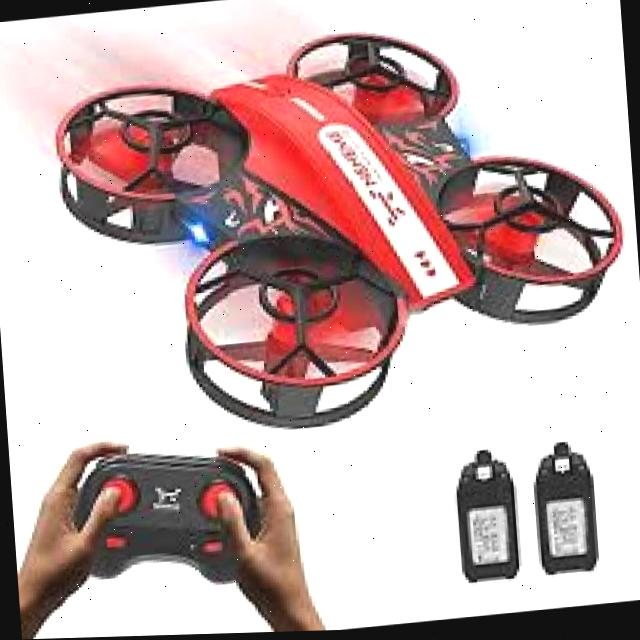drone: (28, 3, 640, 460)
